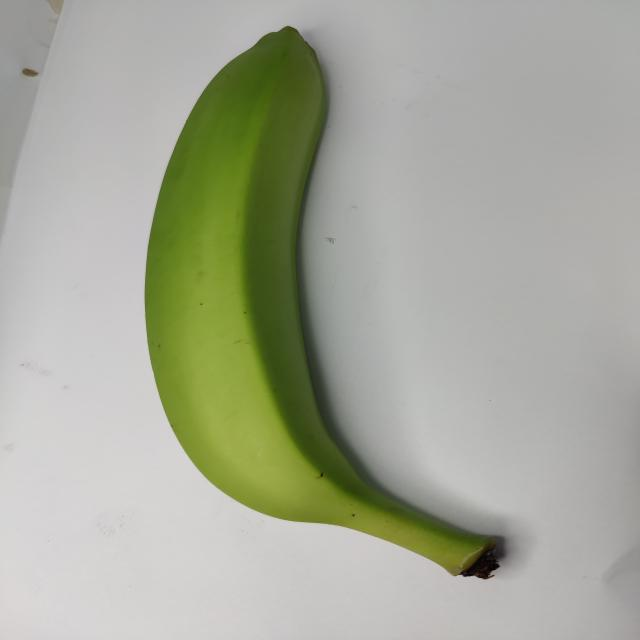raw: (109, 16, 566, 583)
